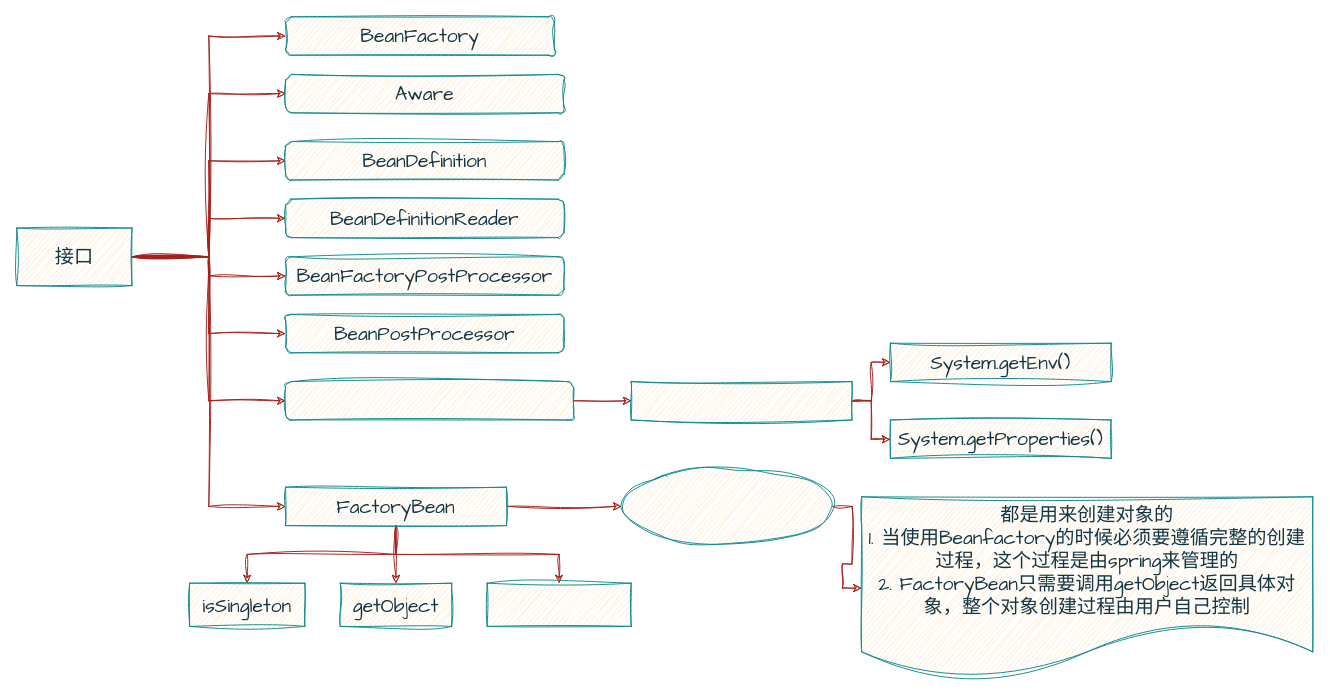
The diagram is 1330 pixels wide and 696 high, and some of its shapes have lost their labels. Here are the shapes that lost their labels. From the top down, the centre of each, then its label:
At [429,400]: "Environment".
At [741,400]: "StandardEnvironment".
At [727,506]: "BeanFactory和FactoryBean的区别".
At [558,604]: "getObjectType".
